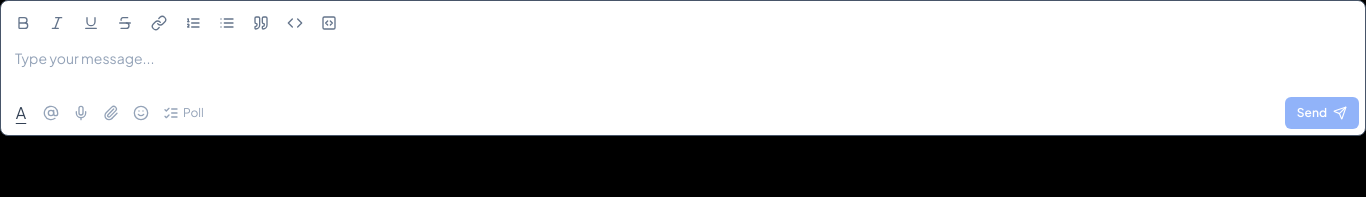
Scenario: voice message recording › automatically stops at two minutes and releases an unsent recording when removed
Click the button named "Record a voice message". click: click(81, 113)
box: 67,99 -> 95,127
Wait 120000 ms
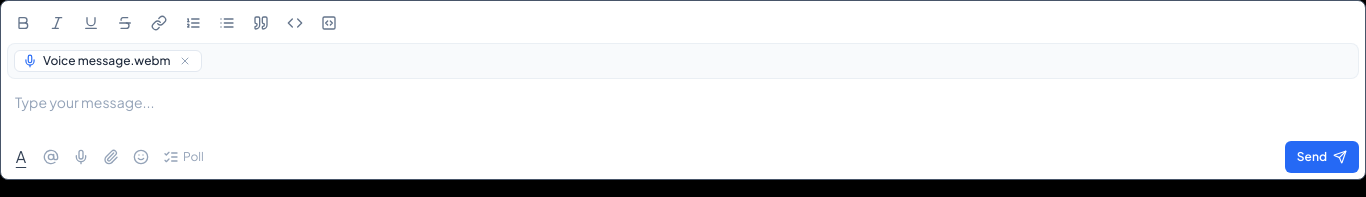
Check: the button named "Remove Voice message.webm" is shown
Click the button named "Remove Voice message.webm". click: click(184, 61)
box: 176,53 -> 192,69
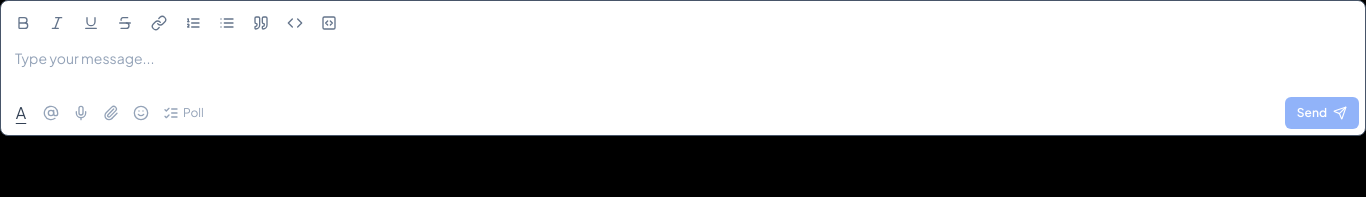
Check: the text "Voice message.webm" is gone
